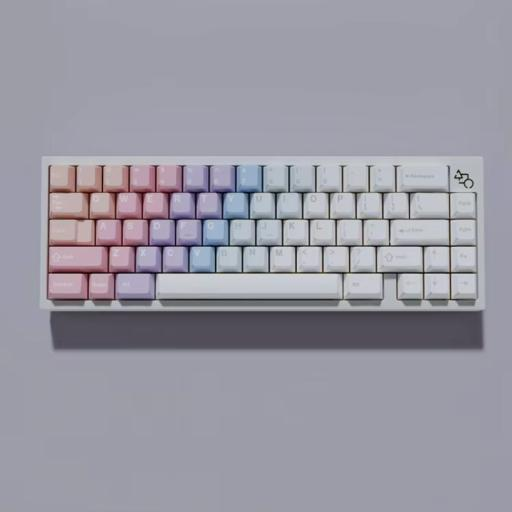KEYBOARD-2: (37, 149, 494, 321)
